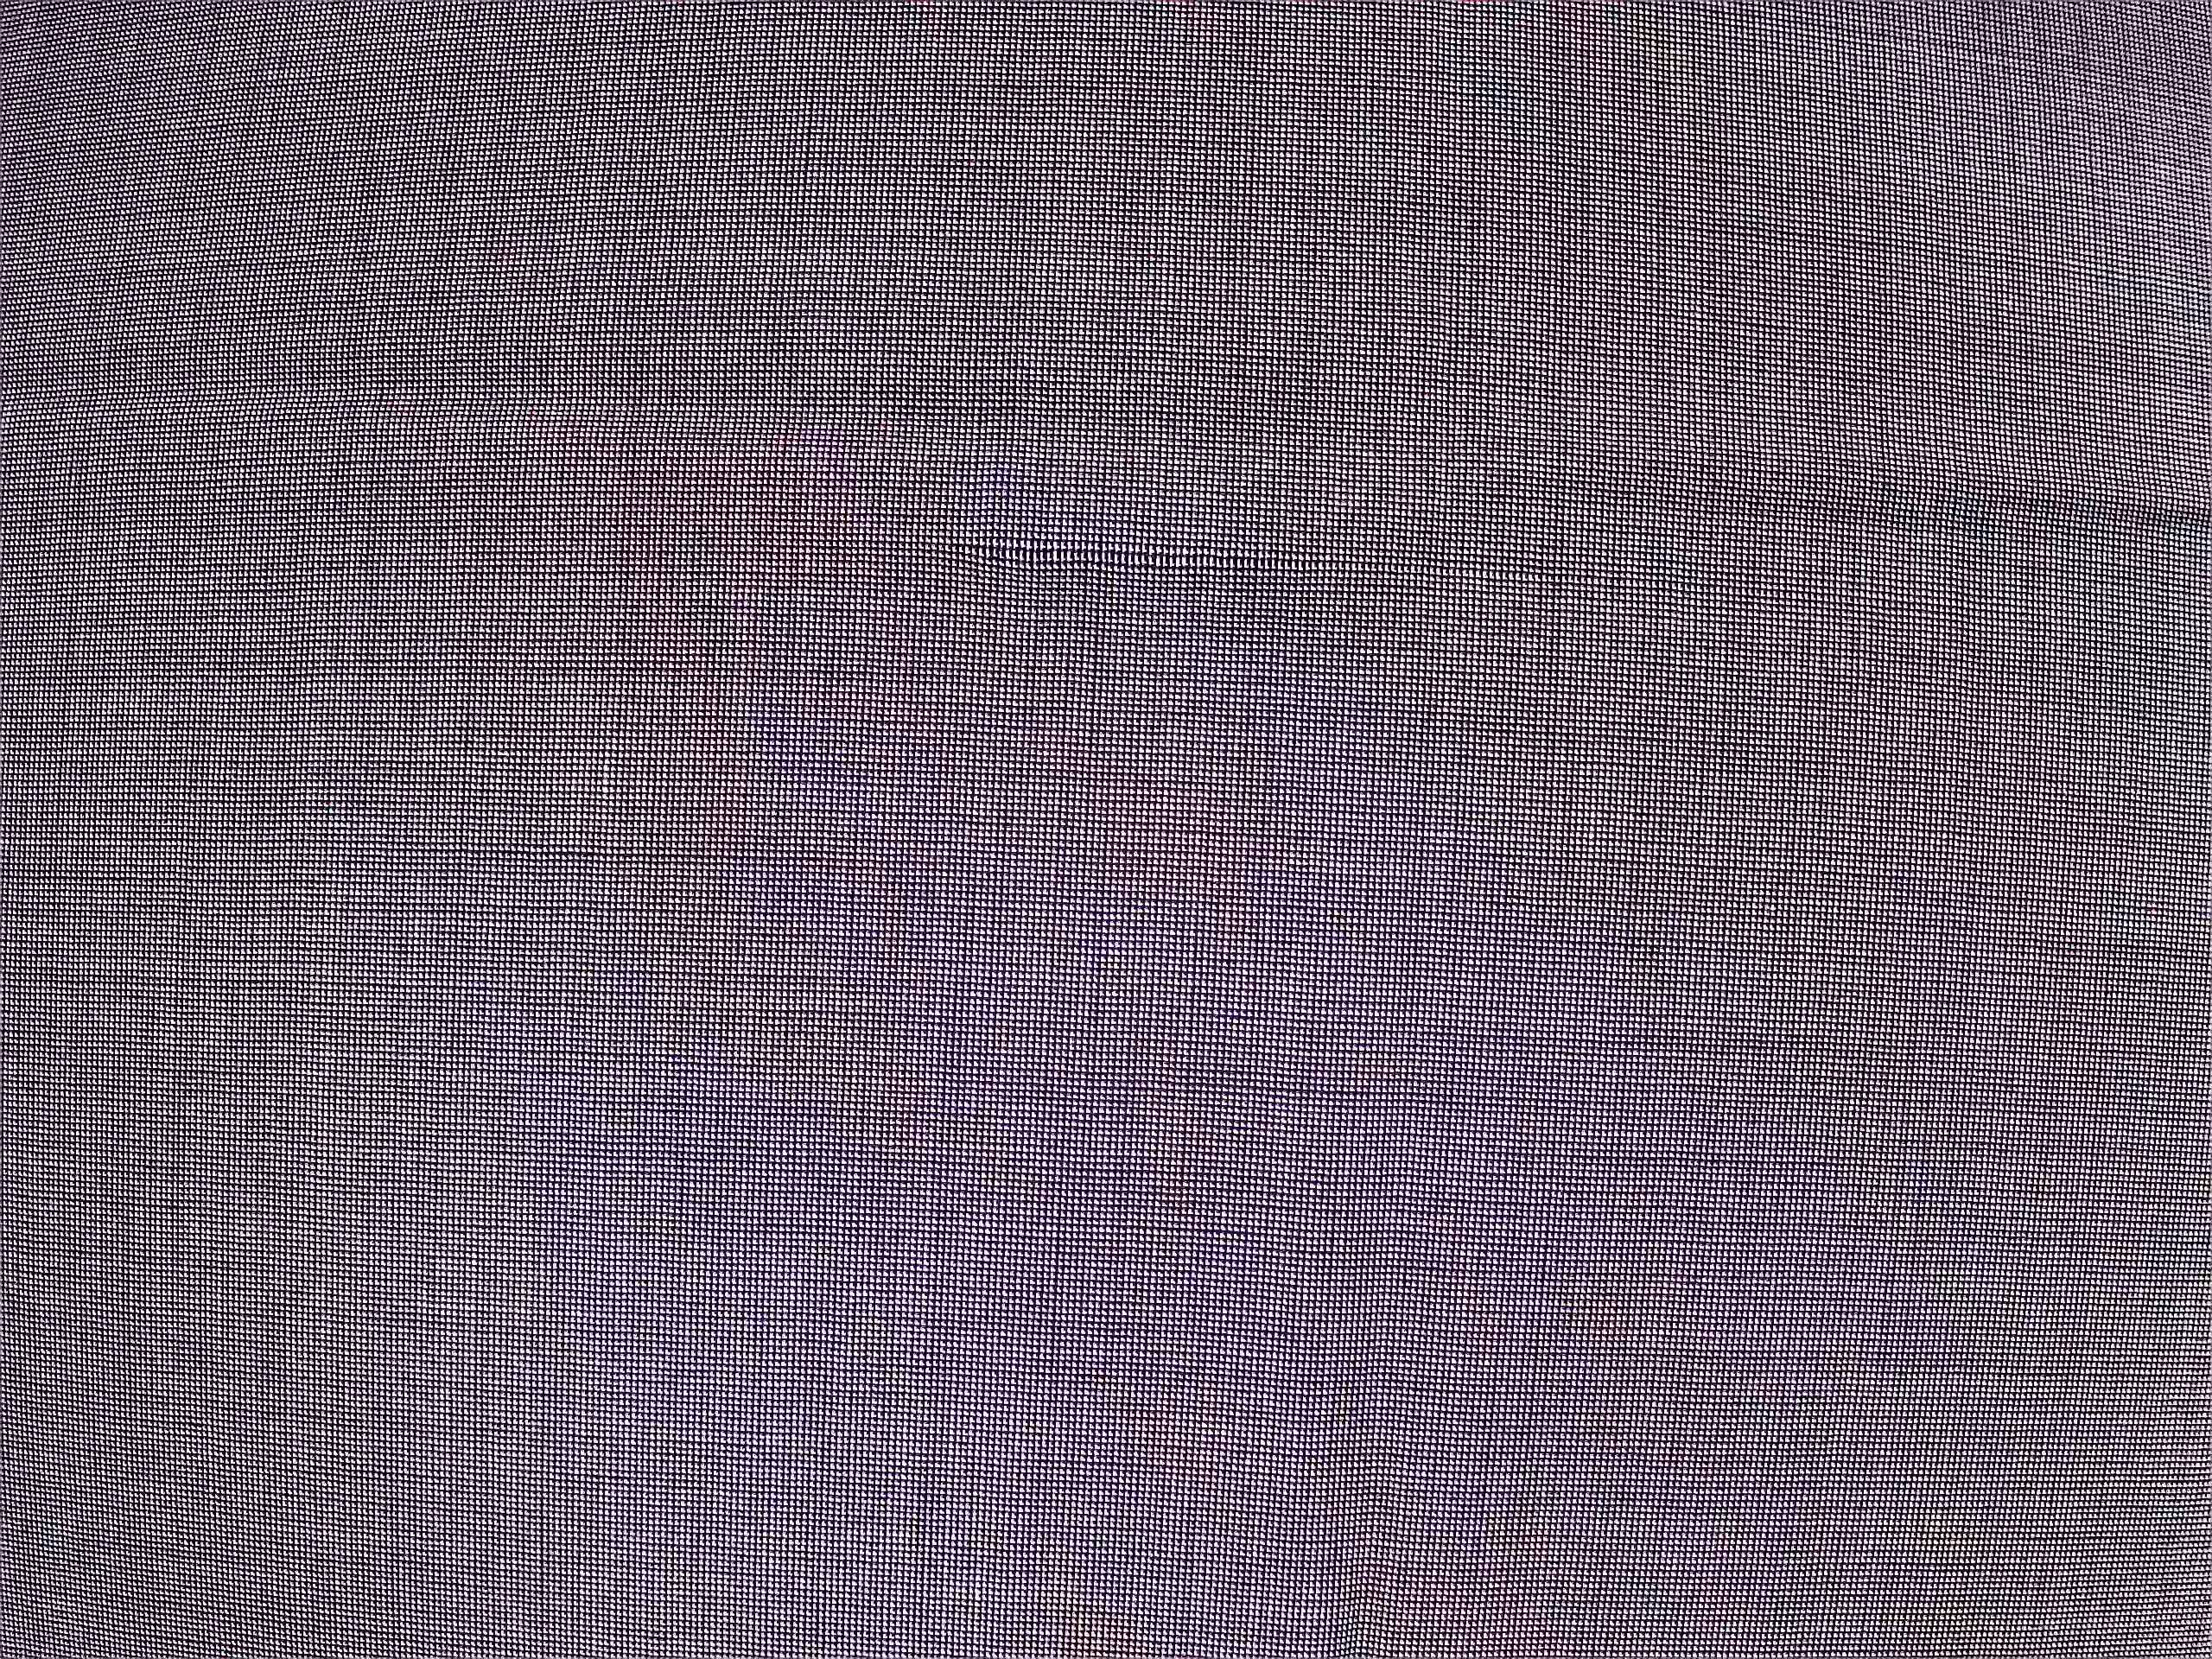thin-spinning: (914, 493, 1717, 622)
